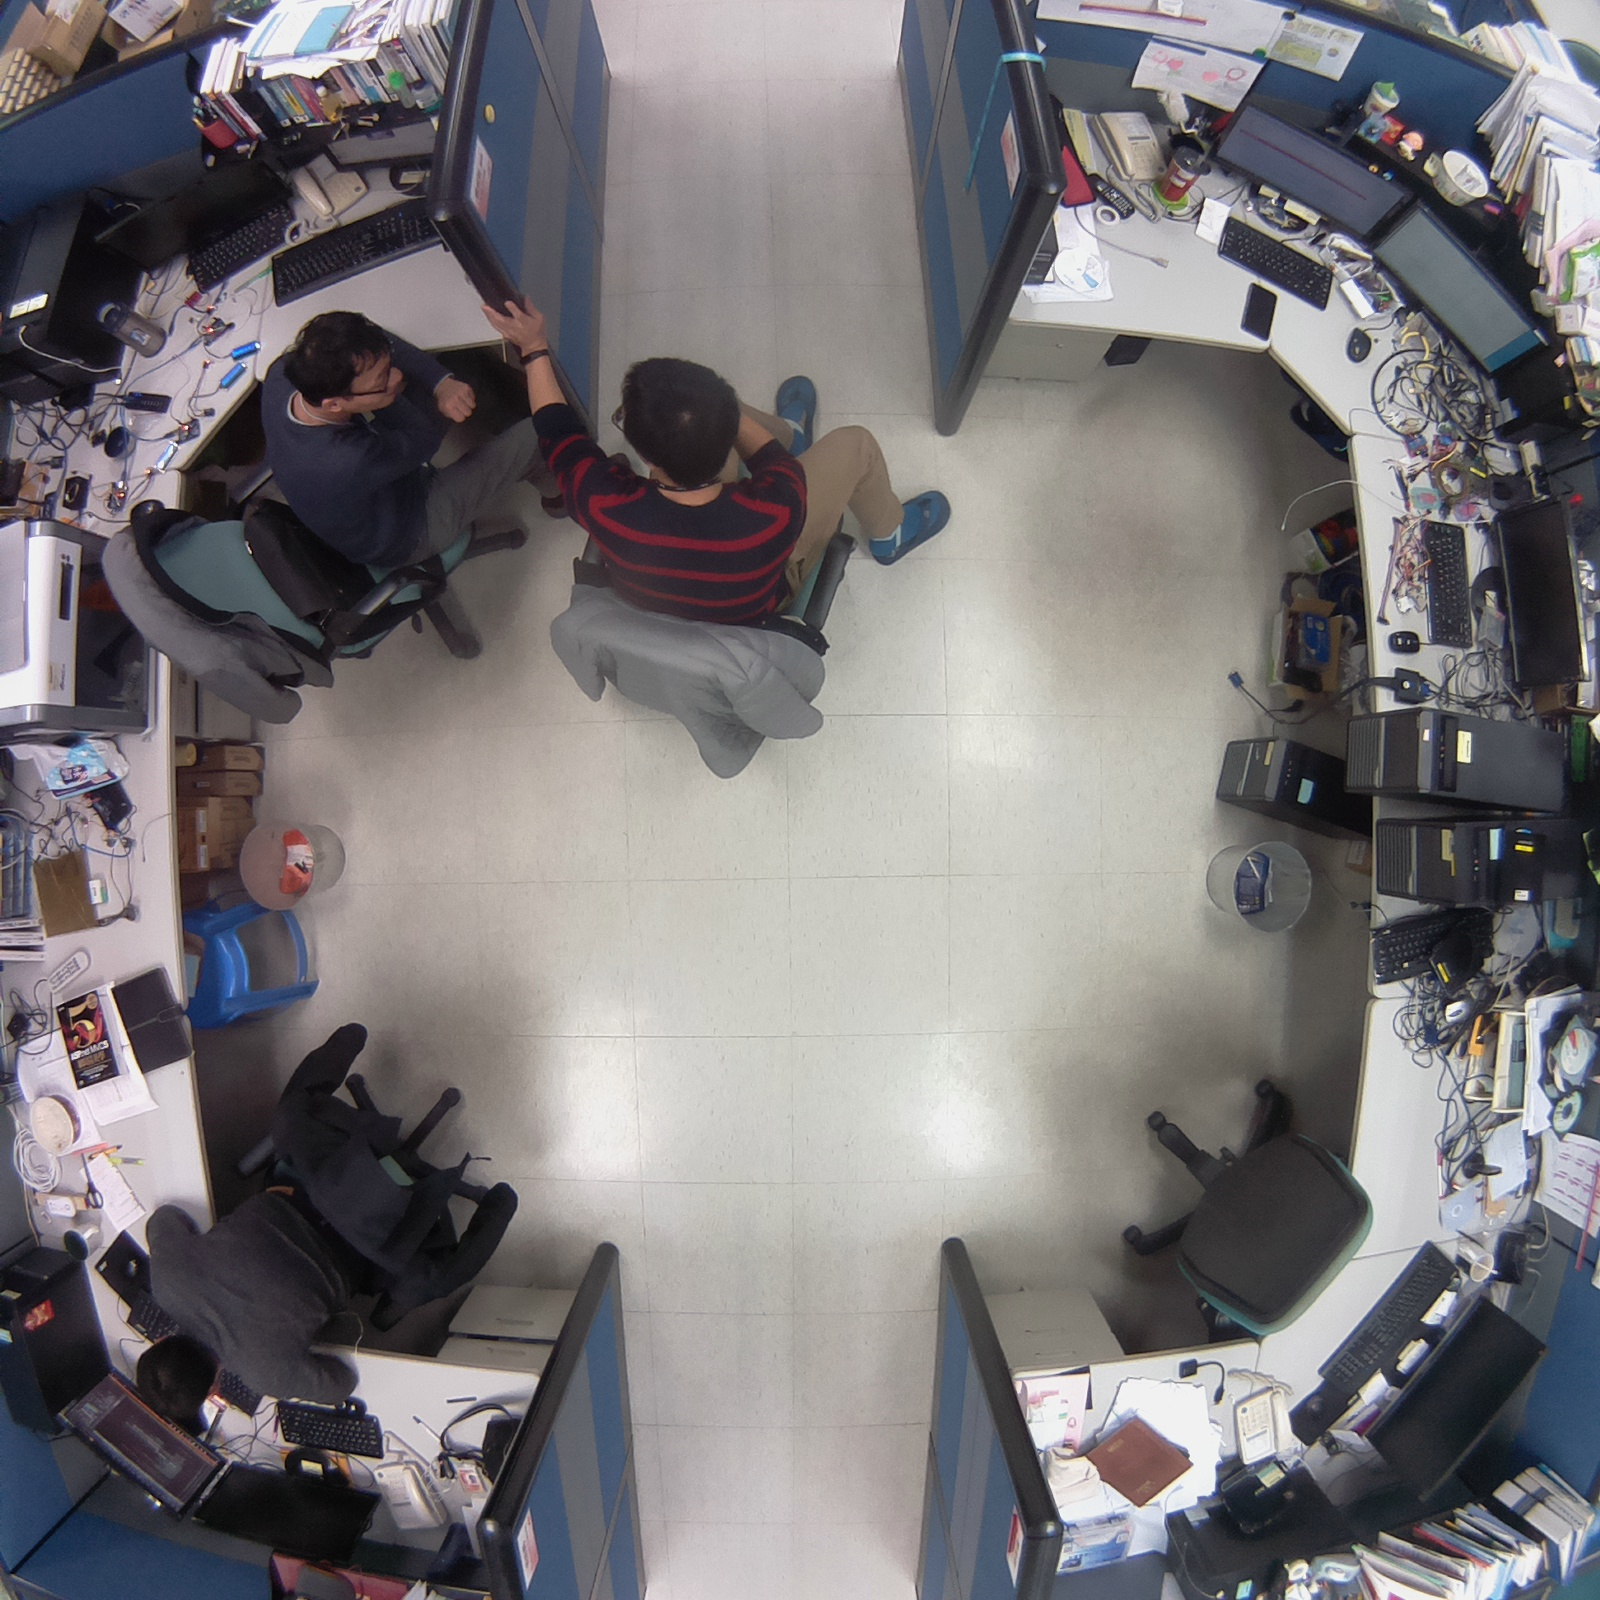chair: (1101, 1065, 1383, 1368)
head: (606, 348, 749, 491), (278, 302, 406, 410), (121, 1325, 223, 1429)
sitting: (514, 346, 965, 799), (96, 296, 522, 737), (107, 1001, 532, 1424)
